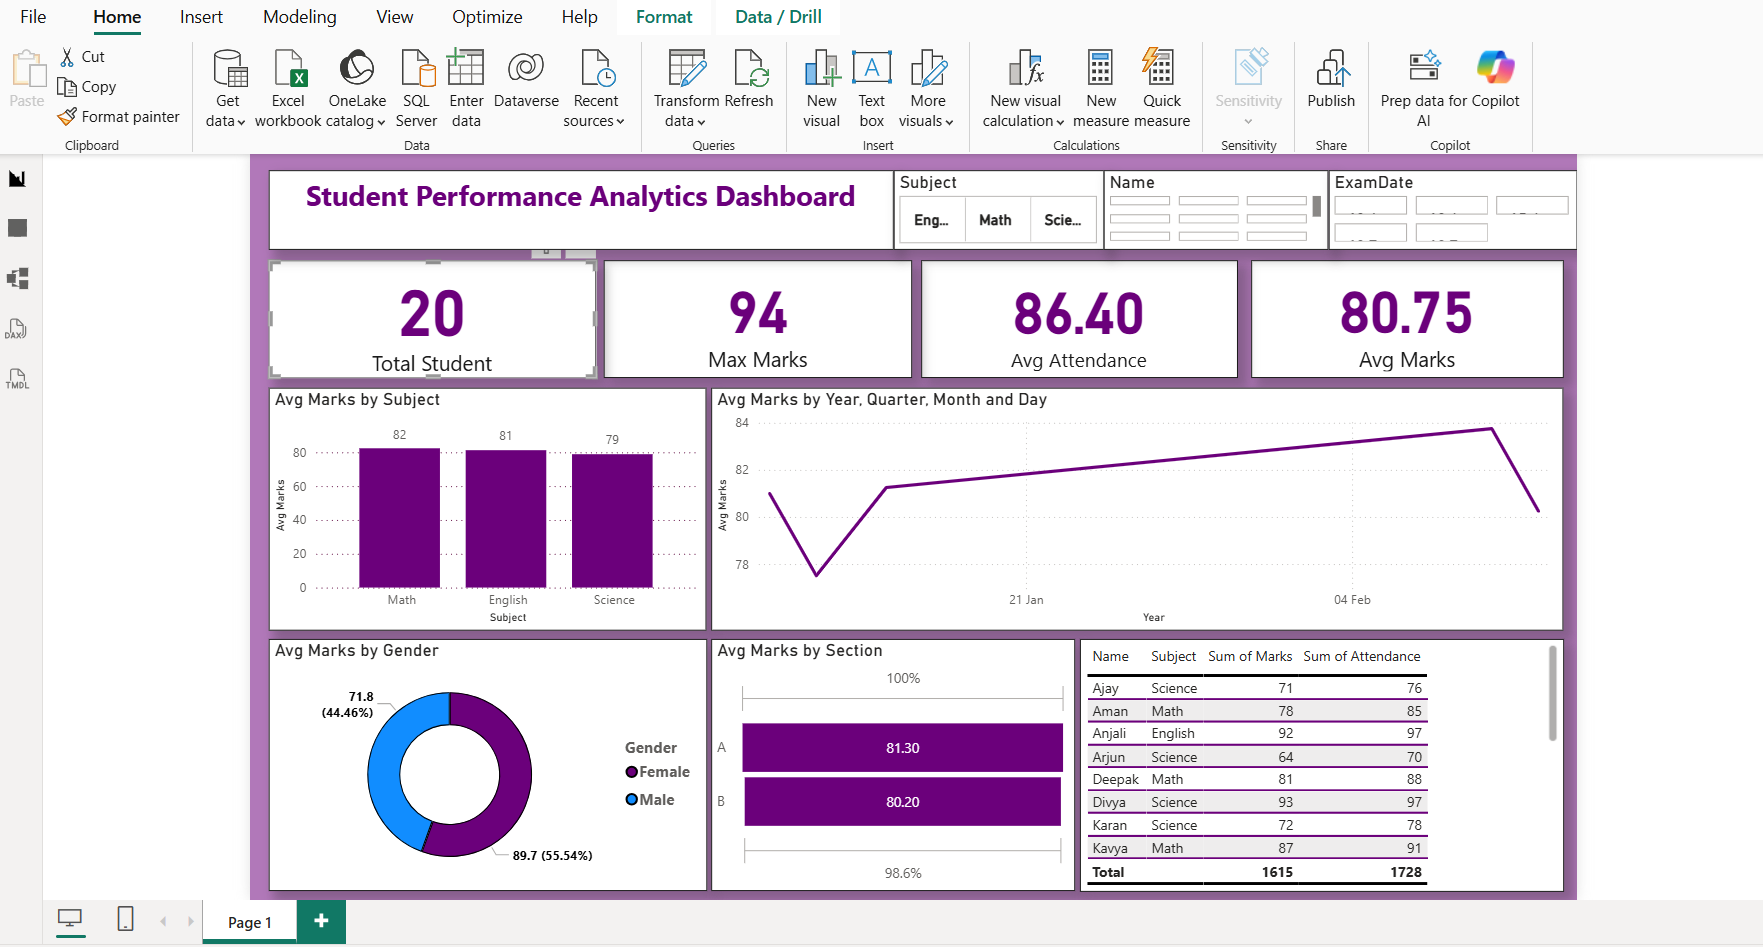

This screenshot's page, from the dashboard's own definition file:
{"tool":"powerbi","page":{"name":"Page 1","canvas":[1280,720],"ordinal":0},"visuals":[{"type":"card","fields":{"Values":["StudentData.Avg Marks"]},"box":[966.4,102.5,301.6,113.4],"z":0},{"type":"card","fields":{"Values":["StudentData.Avg Attendance"]},"box":[647.9,102.5,305.2,113.4],"z":1000},{"type":"card","fields":{"Values":["StudentData.Max Marks"]},"box":[341.4,102.5,298,113.4],"z":2000},{"type":"card","fields":{"Values":["StudentData.Total Student"]},"box":[18.1,102.5,316.1,113.4],"z":3000},{"type":"columnChart","fields":{"Y":["StudentData.Avg Marks"],"Category":["StudentData.Subject"]},"box":[18.1,225.6,422.3,234],"z":4000},{"type":"textbox","box":[18.3,15.9,602.9,77],"z":5000},{"type":"lineChart","fields":{"Y":["StudentData.Avg Marks"],"Category":["StudentData.ExamDate.Variation.Date Hierarchy.Year","StudentData.ExamDate.Variation.Date Hierarchy.Quarter","StudentData.ExamDate.Variation.Date Hierarchy.Month","StudentData.ExamDate.Variation.Date Hierarchy.Day"]},"box":[445.2,225.6,822.8,234],"z":6000},{"type":"donutChart","fields":{"Y":["StudentData.Avg Marks"],"Category":["StudentData.Gender"]},"box":[18.3,468.3,423.1,243.3],"z":7000},{"type":"funnel","fields":{"Category":["StudentData.Section"],"Y":["StudentData.Avg Marks"]},"box":[445.1,468.3,351,243.3],"z":8000},{"type":"tableEx","fields":{"Values":["StudentData.Name","StudentData.Subject","Sum(StudentData.Marks)","Sum(StudentData.Attendance)"]},"box":[801.1,468.1,466.9,243.7],"z":9000},{"type":"advancedSlicerVisual","fields":{"Values":["StudentData.Subject"]},"box":[621.2,15.9,203,77],"z":10000},{"type":"advancedSlicerVisual","fields":{"Values":["StudentData.Name"]},"box":[824,15.7,217.2,77.2],"z":11000},{"type":"advancedSlicerVisual","fields":{"Values":["StudentData.ExamDate"]},"box":[1040.6,15.9,239.7,77],"z":12000}]}

Visuals, with their boxes on the page's 1280x720 design canvas (x1, y1, x2, y2). These are canvas units, not pixel positions in the 1763x947 screenshot, which may show the page scaled, cropped or inside an application window:
card - StudentData.Avg Marks: box=[966, 102, 1268, 216]
card - StudentData.Avg Attendance: box=[648, 102, 953, 216]
card - StudentData.Max Marks: box=[341, 102, 639, 216]
card - StudentData.Total Student: box=[18, 102, 334, 216]
columnChart - StudentData.Avg Marks x StudentData.Subject: box=[18, 226, 440, 460]
textbox: box=[18, 16, 621, 93]
lineChart - StudentData.Avg Marks x StudentData.ExamDate.Variation.Date Hierarchy.Year: box=[445, 226, 1268, 460]
donutChart - StudentData.Avg Marks x StudentData.Gender: box=[18, 468, 441, 712]
funnel - StudentData.Section x StudentData.Avg Marks: box=[445, 468, 796, 712]
tableEx - StudentData.Name x StudentData.Subject: box=[801, 468, 1268, 712]
advancedSlicerVisual - StudentData.Subject: box=[621, 16, 824, 93]
advancedSlicerVisual - StudentData.Name: box=[824, 16, 1041, 93]
advancedSlicerVisual - StudentData.ExamDate: box=[1041, 16, 1280, 93]
